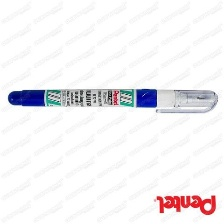correction_fluid: (5, 83, 221, 118)
